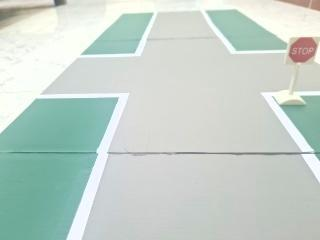stop: (282, 29, 320, 72)
